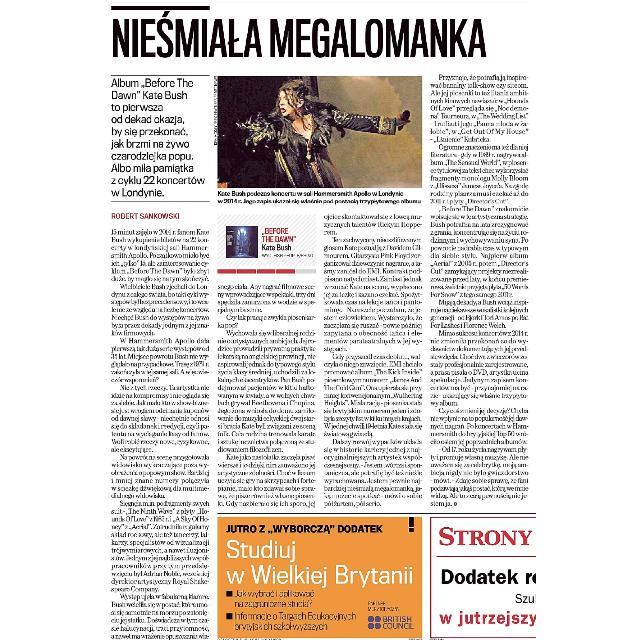author: (108, 209, 182, 221)
body: (428, 71, 532, 508), (106, 226, 212, 640), (322, 210, 424, 510), (217, 280, 317, 508)
caption: (215, 190, 423, 208)
image: (212, 73, 424, 189)
lead: (106, 75, 208, 198)
title: (110, 10, 490, 64)
